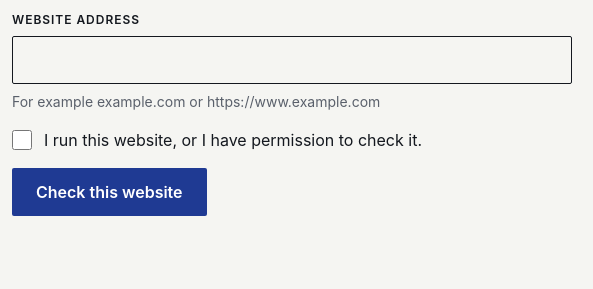
Scenario: ScanForm › asks for an address and focuses the field
Click the button "Check this website" at point(109, 192), box [12,168,207,216]
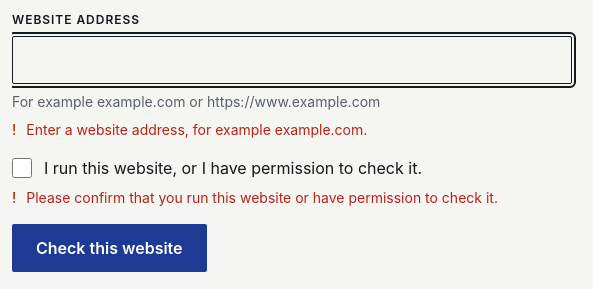
Result: the text "Enter a website address, for example example.com." is shown at [26,120,367,140]
